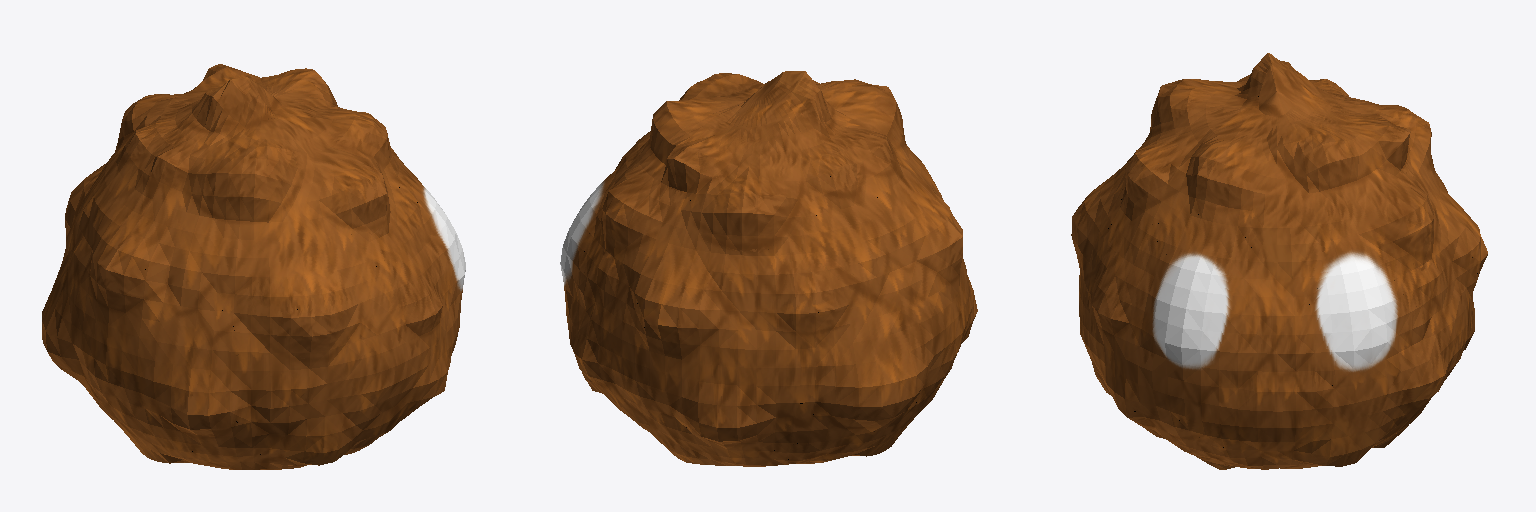
3 views of the same model, side by side, from view 1: azimuth 30°, elevation 25°; view 2: azimuth 150°, elevation 25°; view 3: azimuth 270°, elevation 25° (orthographic).
Visible parts, largest first — view 1: Sphere.001; view 2: Sphere.001; view 3: Sphere.001.
Boxes of the visible parts, box(x1,y1,x2,y2) form: Sphere.001: box(42, 64, 465, 469); Sphere.001: box(560, 71, 977, 466); Sphere.001: box(1071, 53, 1487, 469).
Bounding box in the file's own units: 12.46 × 12.5 × 12.54.
Materials: 1 (1 with a texture image).